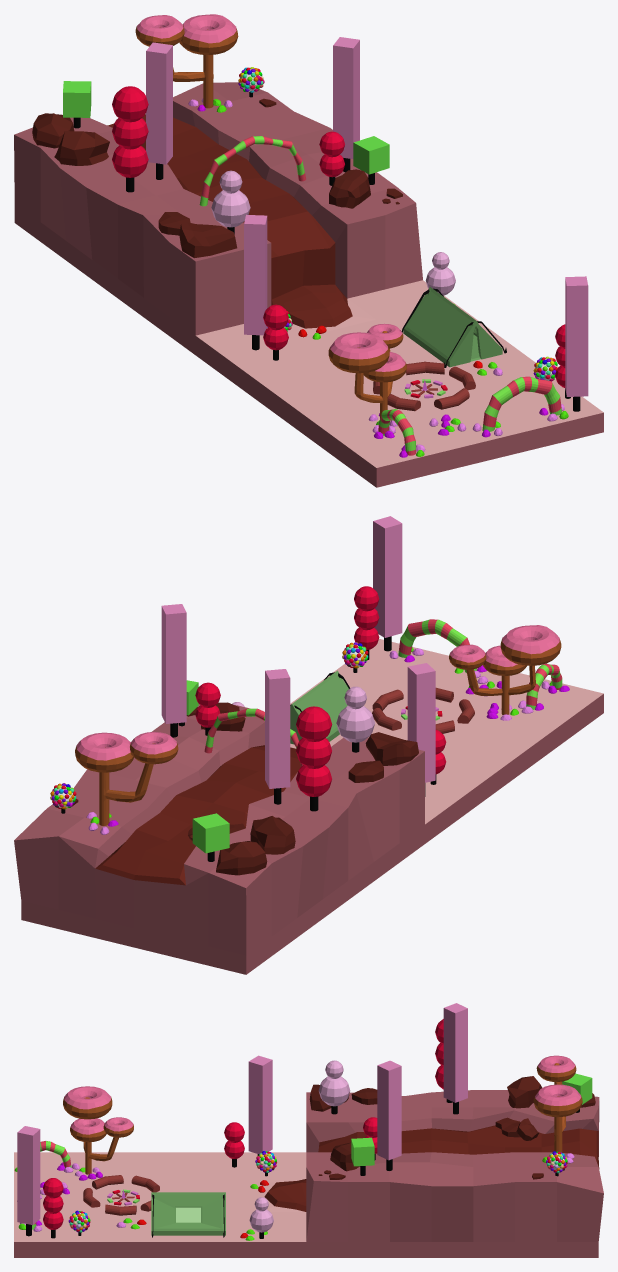
The model's file is D2_candy_forest.fbx.
3 renders of one model, top to bottom at view 1: azimuth 30°, elevation 25°; view 2: azimuth 150°, elevation 25°; view 3: azimuth 270°, elevation 25°, orthographic. The views are drawn at different scales.
Visible parts, largest first — view 1: Цилиндр.011; view 2: Цилиндр.011; view 3: Цилиндр.011.
Part boxes in pixels (x1,y1,x2,y2): Цилиндр.011: (14, 14, 603, 487); Цилиндр.011: (14, 516, 603, 974); Цилиндр.011: (14, 1003, 603, 1257).
Bounding box in the file's own units: 2632 × 2327 × 6821.
